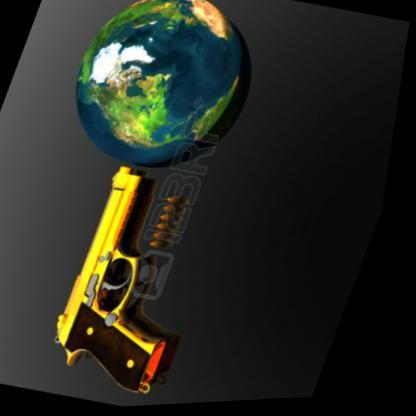pistol: (27, 160, 237, 404)
